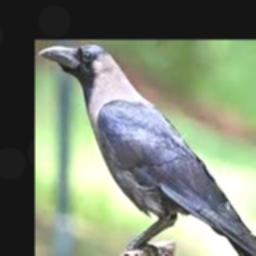Crow: (37, 45, 256, 256)
